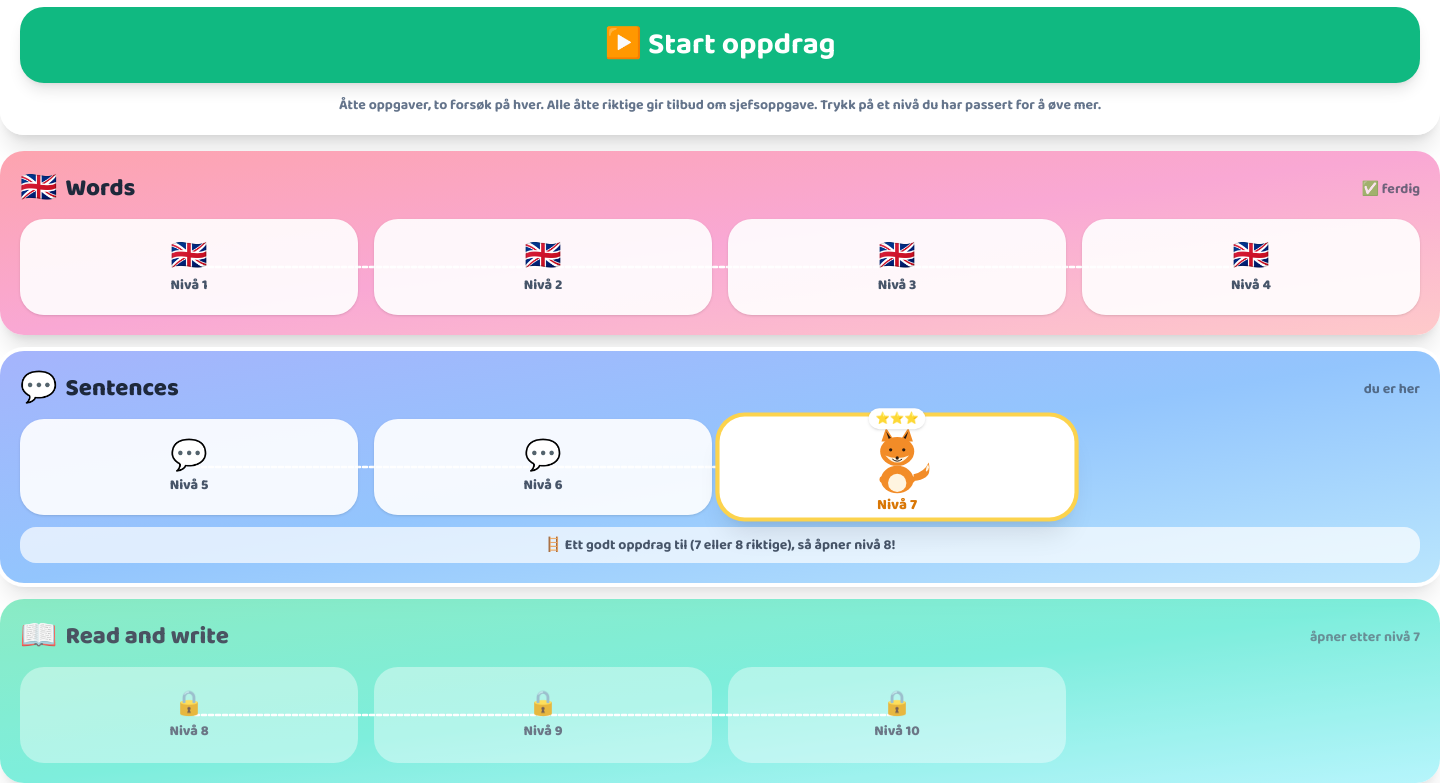
Test case: neste nivå på kartet › tre stjerner på nivå 7 og paaRad 1: «Ett godt oppdrag til», og låst nivå forklarer det samme
This screenshot has width=1440, height=783.
(page scrolled)
Expected: the text with test id "neste-nivaa" shows "Ett godt oppdrag til", 565,534 -> 896,556
Expected: the text with test id "neste-nivaa" shows "nivå 8", 565,534 -> 896,556
Click the button labelled "🔒 Nivå 8". click: {"x": 189, "y": 715}
box: 20,667 -> 358,763
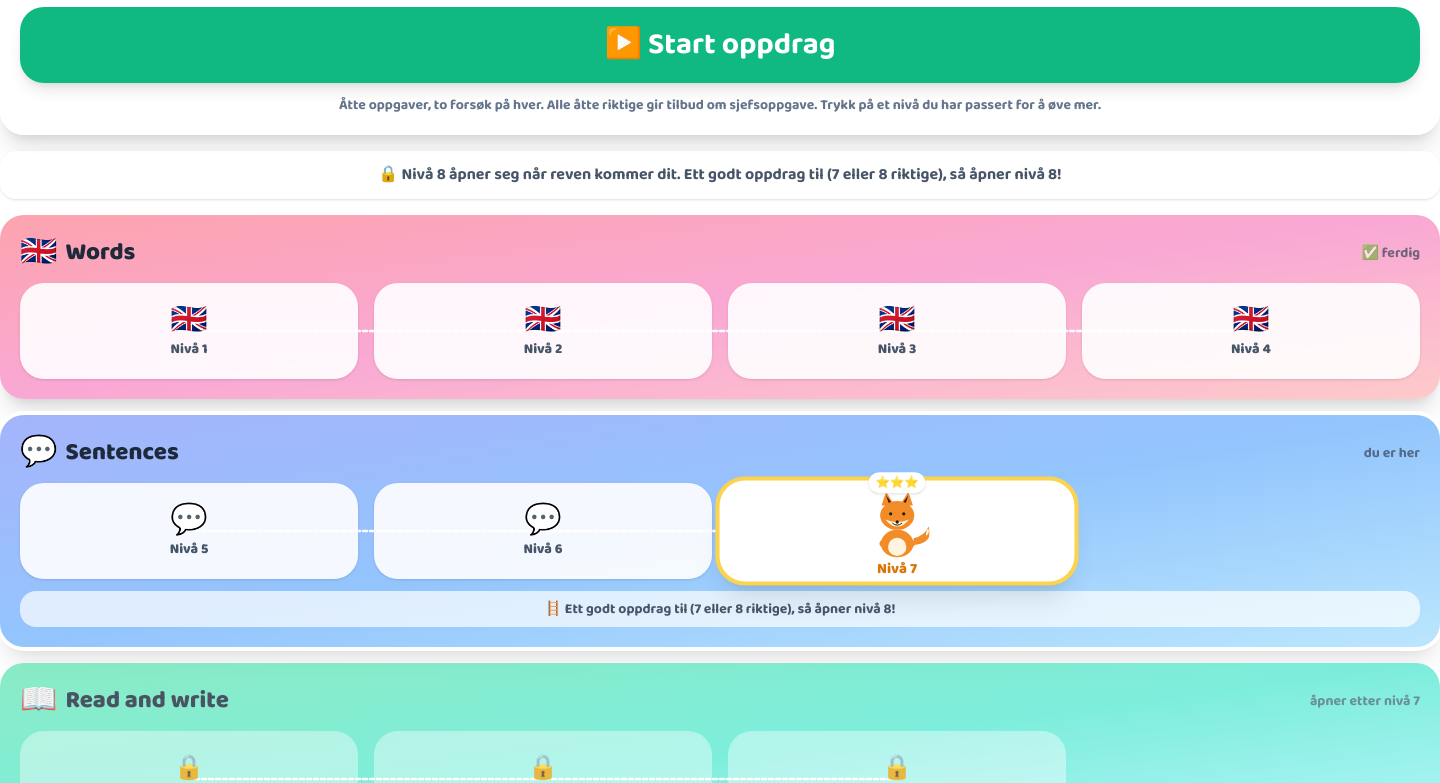
Expected: the text "Nivå 8 åpner seg når reven kommer dit. Ett godt oppdrag til" is shown, 378,162 -> 1062,187
